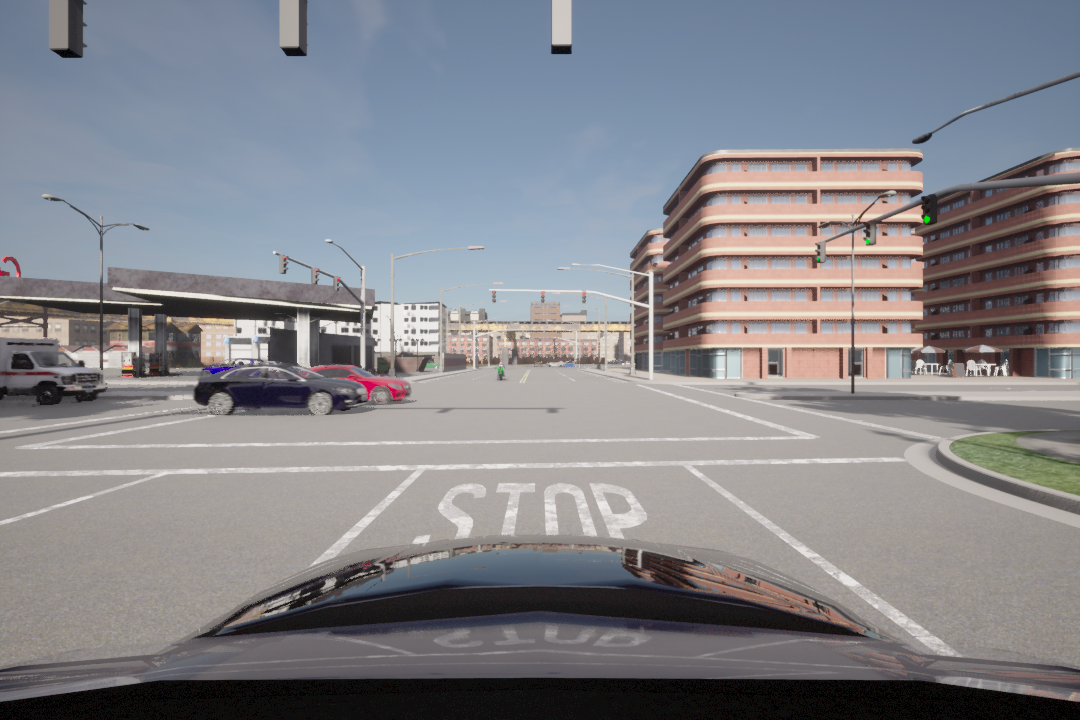TrafficLight: (919, 191, 938, 226), (861, 218, 877, 247), (811, 243, 828, 267), (309, 265, 322, 286), (276, 254, 289, 274), (332, 276, 342, 294), (538, 288, 548, 303), (581, 288, 589, 303), (490, 288, 498, 303)
